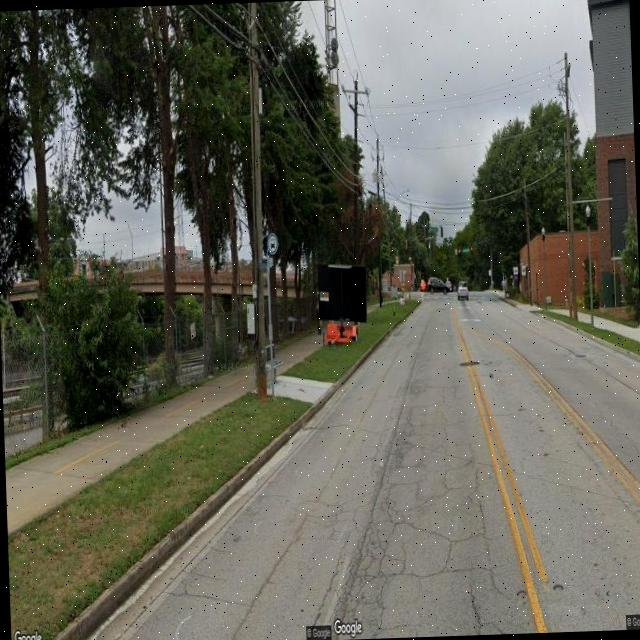seating: (264, 342, 285, 389)
